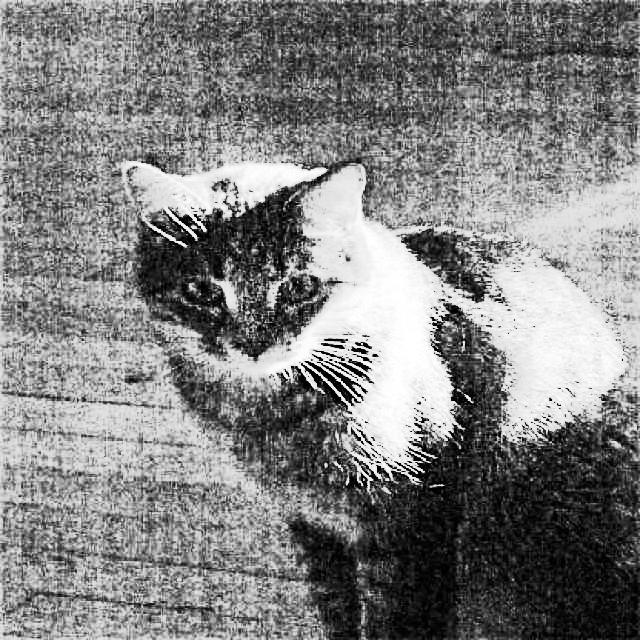Cat: (115, 149, 640, 640)
